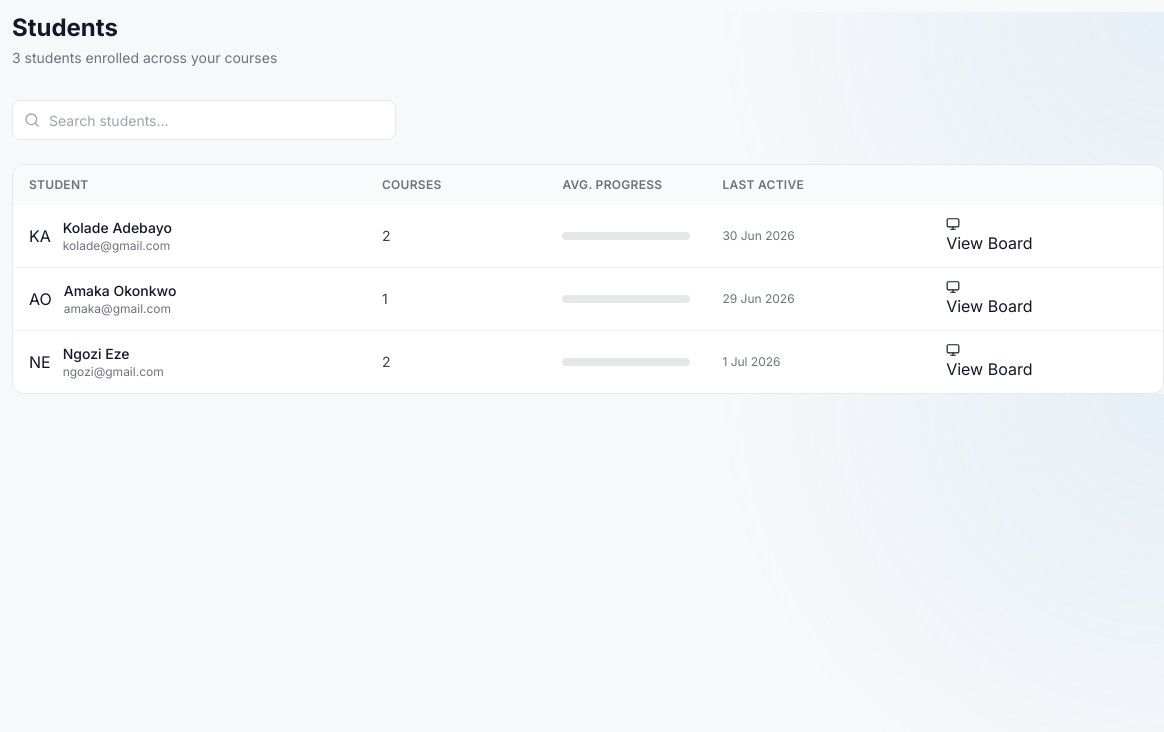
Test case: TrainerStudentsPage › filters students by name
The image size is (1164, 732).
Expected: the text "Kolade Adebayo" is shown, left=63, top=218, right=172, bottom=238
Step 1. Type "amaka" into the field labelled "Search students…" → x=204, y=120, box left=12, top=100, right=396, bottom=140
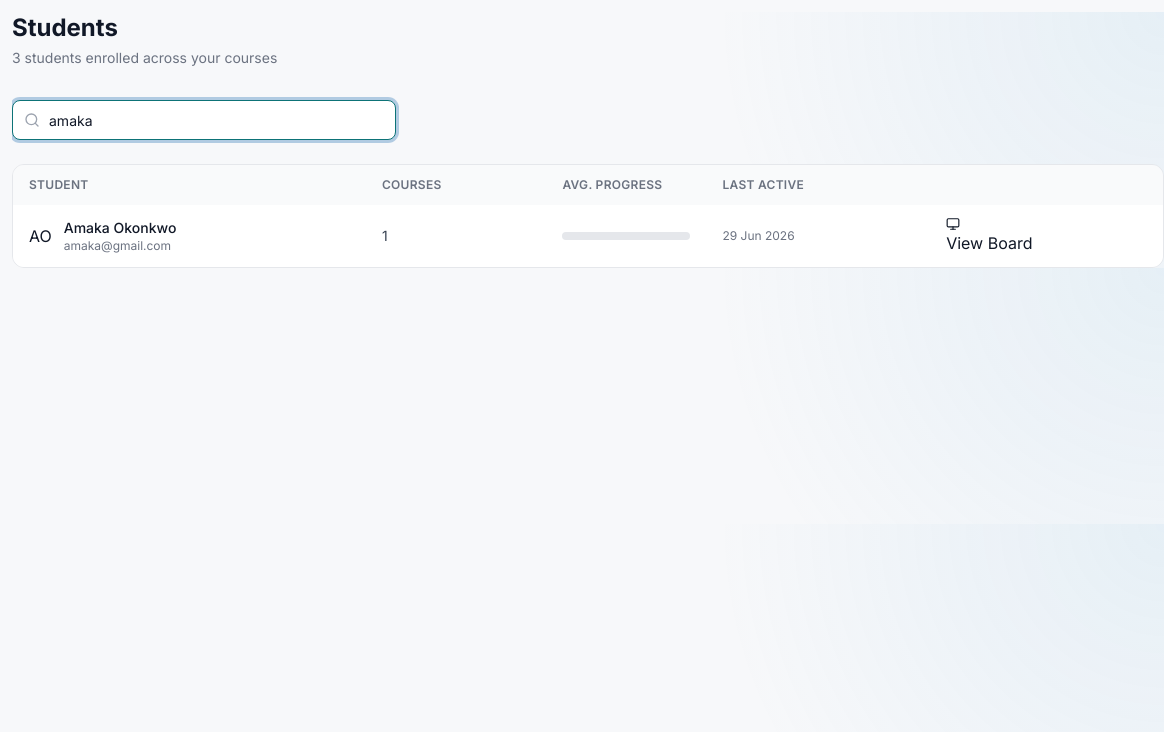
Expected: the text "Amaka Okonkwo" is shown, left=64, top=218, right=176, bottom=238
Expected: the text "Kolade Adebayo" is gone
